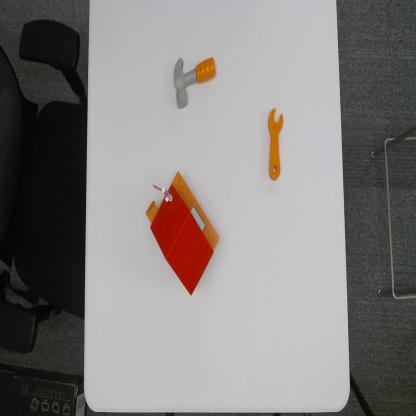Hammer: (172, 56, 222, 110)
House: (145, 167, 220, 298)
Screwdriver: (266, 105, 285, 183)
